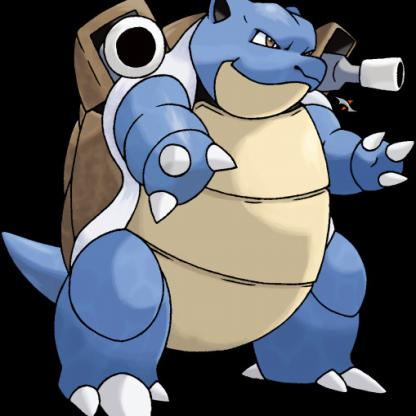Blastoise: (17, 1, 416, 416)
